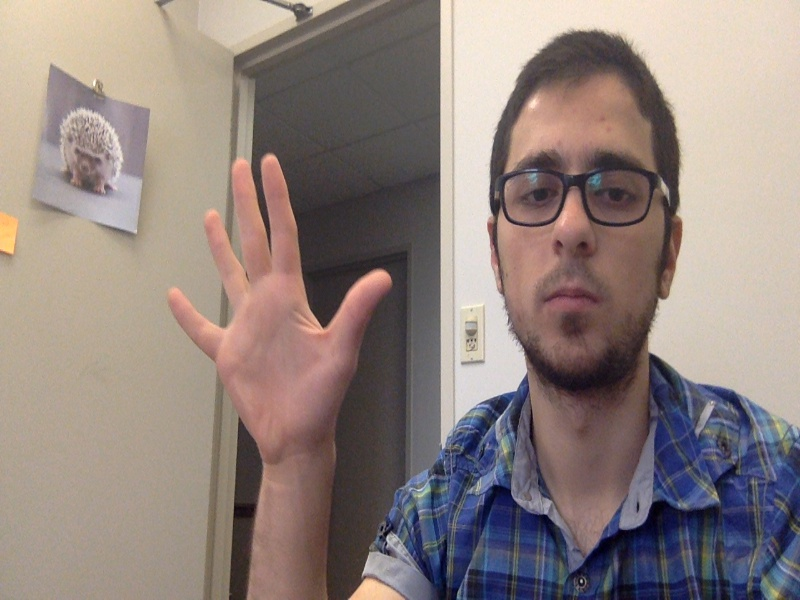5-hand: (166, 153, 394, 464)
